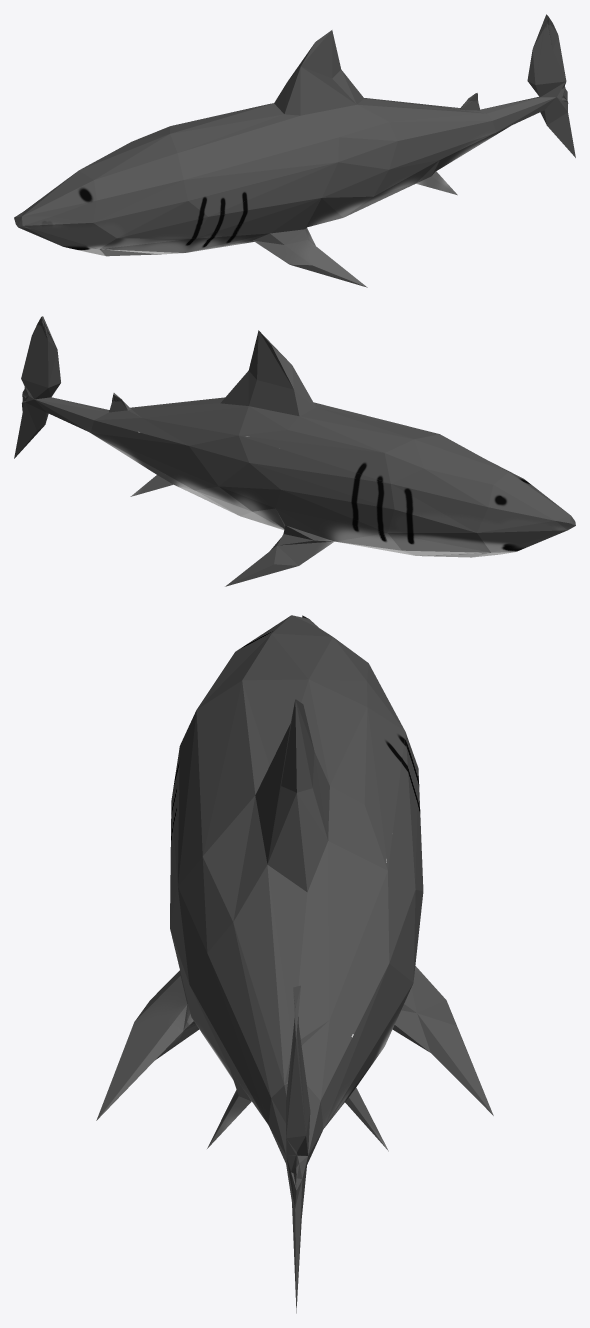
Rendered from Shark.fbx.
3 views of the same model, one above another, from view 1: azimuth 30°, elevation 25°; view 2: azimuth 150°, elevation 25°; view 3: azimuth 270°, elevation 25° (orthographic). The views are drawn at different scales.
Visible parts, largest first — view 1: Shark; view 2: Shark; view 3: Shark.
Boxes of the visible parts, bbox=[...] form: Shark: bbox=[14, 14, 575, 287]; Shark: bbox=[14, 316, 575, 586]; Shark: bbox=[96, 615, 493, 1313].
Bounding box in the file's own units: 1006 × 374 × 309.
1 material, 1 textured.
